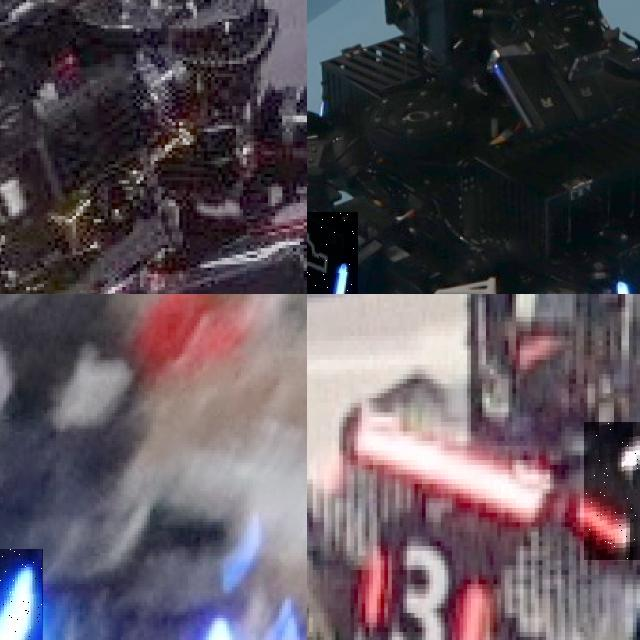Bs: (307, 212, 357, 294)
R3: (358, 531, 486, 640), (584, 421, 640, 560)
